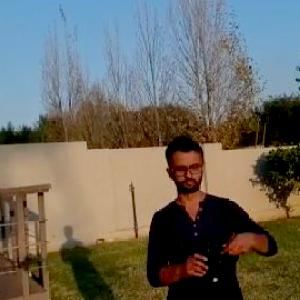follow: (139, 130, 280, 299)
